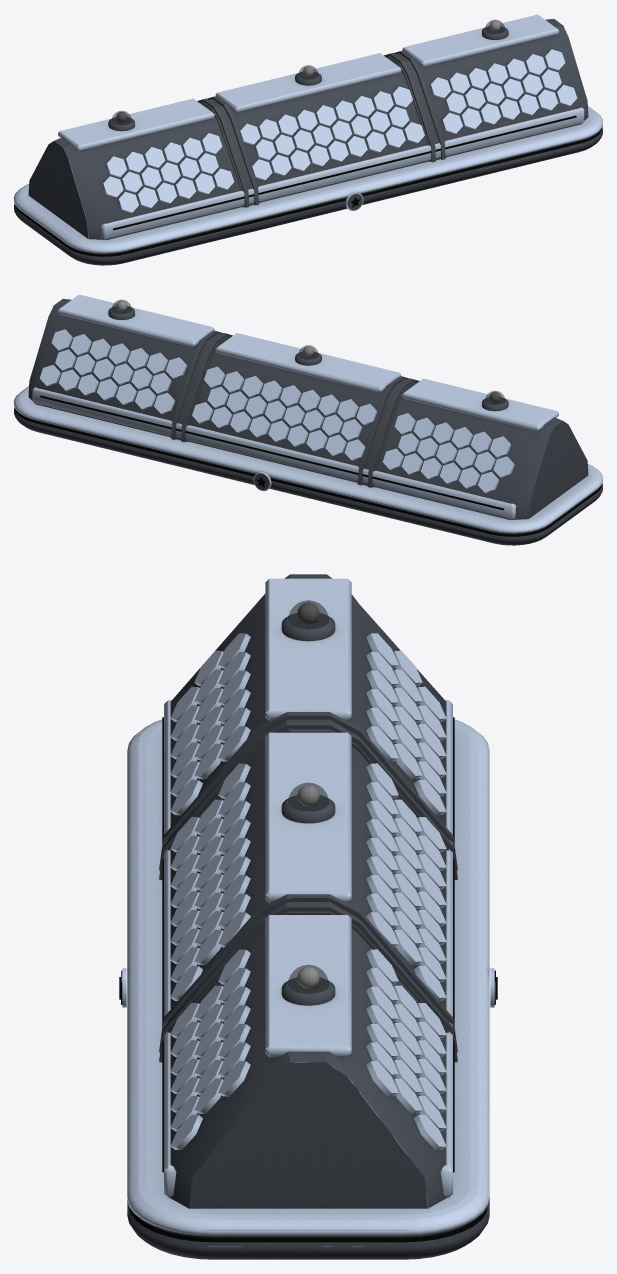
The model's file is SM_Evo_ArmorWall.fbx.
3 renders of one model, top to bottom at view 1: azimuth 30°, elevation 25°; view 2: azimuth 150°, elevation 25°; view 3: azimuth 270°, elevation 25°, orthographic. The views are drawn at different scales.
Parts seen in each view (by area): view 1: SMN_Evo_ArmorWall, Emblem_Fx_ArmorWall; view 2: SMN_Evo_ArmorWall, Emblem_Fx_ArmorWall; view 3: SMN_Evo_ArmorWall, Emblem_Fx_ArmorWall.
Part boxes in pixels (x1=…): SMN_Evo_ArmorWall: x1=14, y1=14, x2=602, y2=265; Emblem_Fx_ArmorWall: x1=15, y1=20, x2=601, y2=256; SMN_Evo_ArmorWall: x1=14, y1=294, x2=602, y2=545; Emblem_Fx_ArmorWall: x1=15, y1=300, x2=601, y2=536; SMN_Evo_ArmorWall: x1=121, y1=574, x2=495, y2=1259; Emblem_Fx_ArmorWall: x1=119, y1=600, x2=497, y2=1242.
Bounding box in the file's own units: 2.84 × 0.581 × 0.877.
